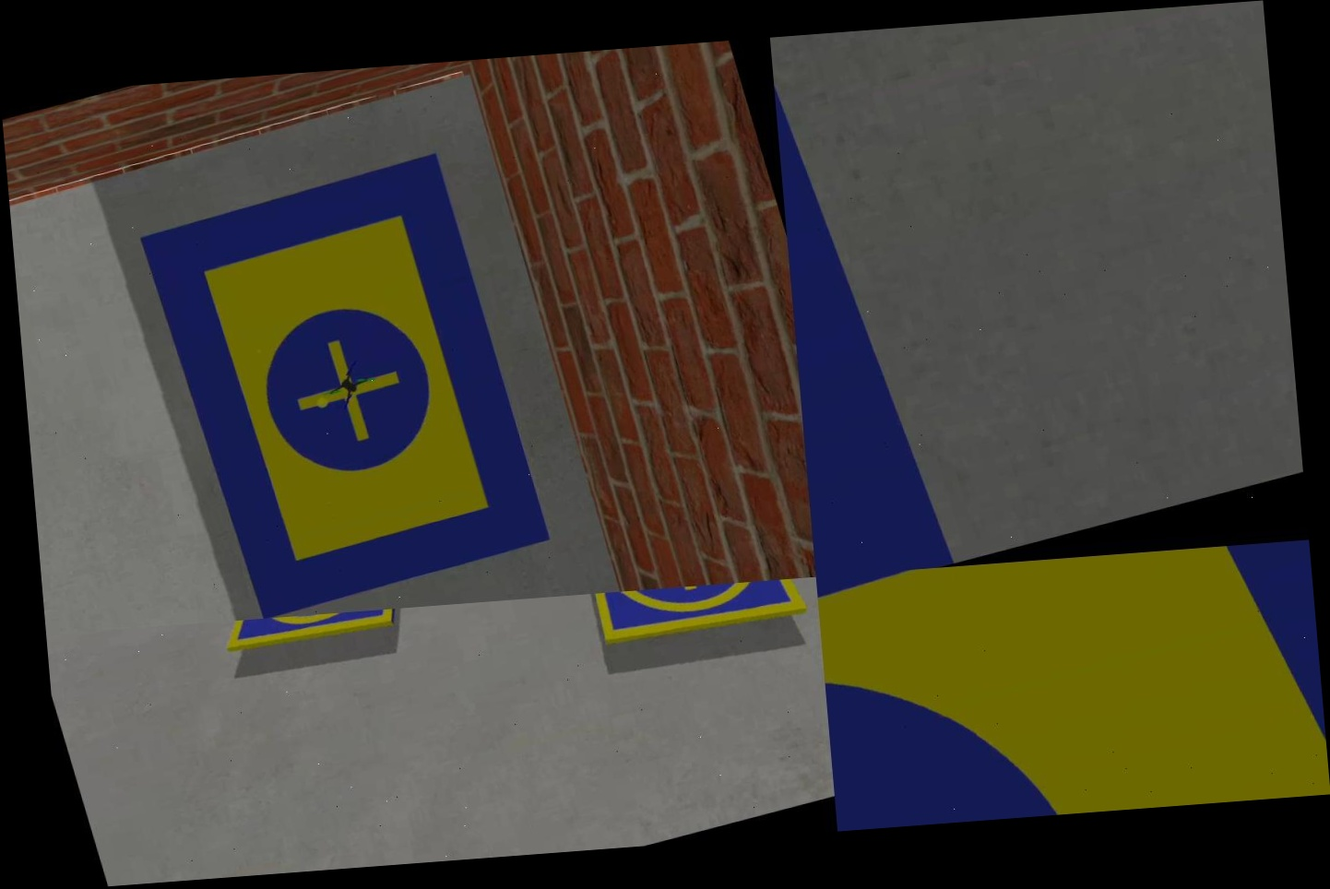large_base: (133, 145, 560, 625), (816, 539, 1330, 831), (770, 27, 961, 577)
small_base: (573, 577, 816, 666), (203, 606, 436, 670)
